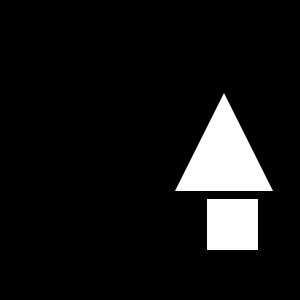circle: (207, 199, 258, 250)
triangle: (175, 93, 273, 191)
